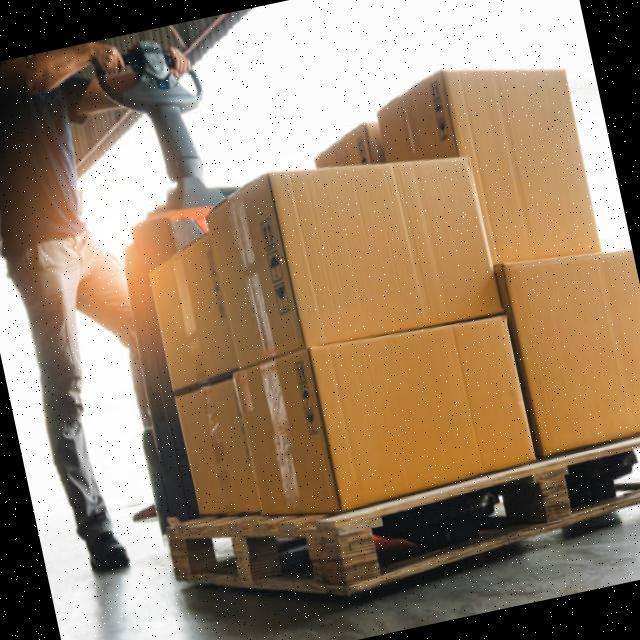Wooden-Pallets: (171, 435, 640, 596)
